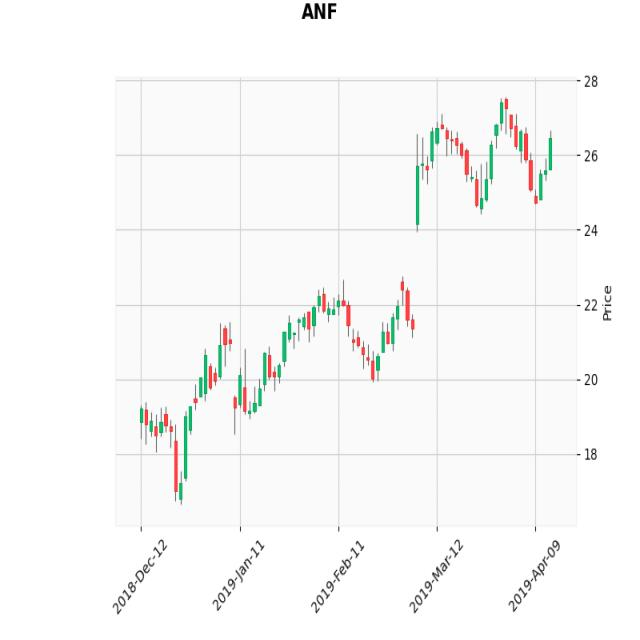Double-Top: (408, 102, 544, 239)
